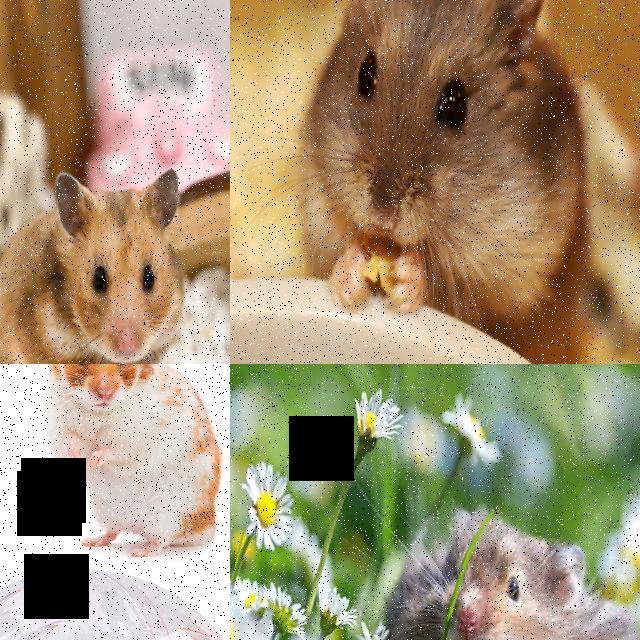hamster: (290, 0, 587, 316), (372, 504, 640, 640), (43, 364, 227, 560), (0, 169, 183, 364)
